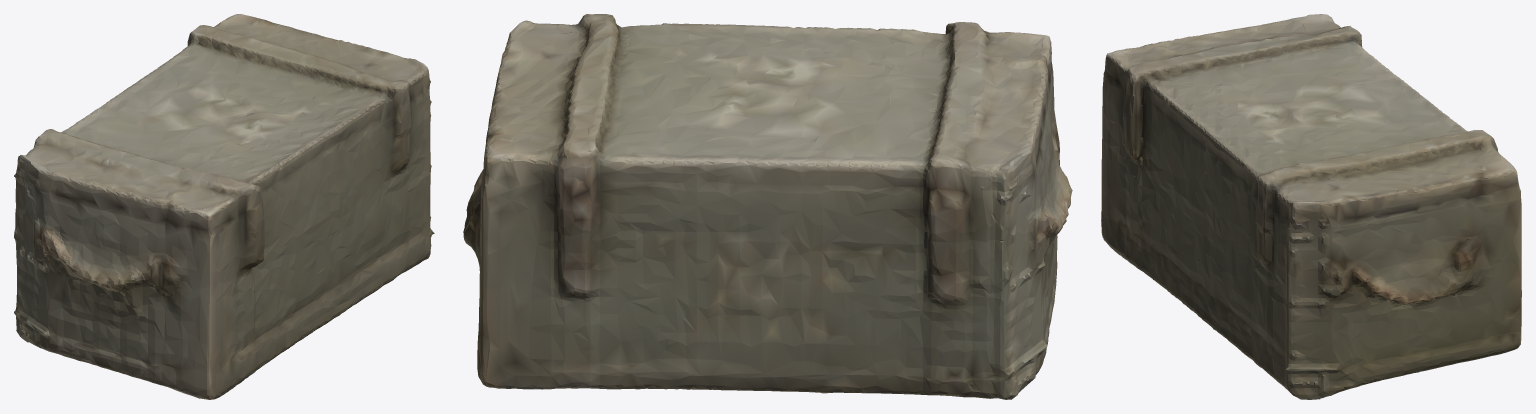
The model's file is model_roblox_hq.glb.
3 views of the same model, side by side, from view 1: azimuth 30°, elevation 25°; view 2: azimuth 150°, elevation 25°; view 3: azimuth 270°, elevation 25° (orthographic). The views are drawn at different scales.
Parts seen in each view (by area): view 1: world; view 2: world; view 3: world.
Boxes of the visible parts, x1,y1,x2,y2 form: world: (14, 14, 434, 399); world: (463, 14, 1072, 399); world: (1101, 14, 1521, 399).
Size of the model in its own units: 2 by 0.972 by 1.82.
